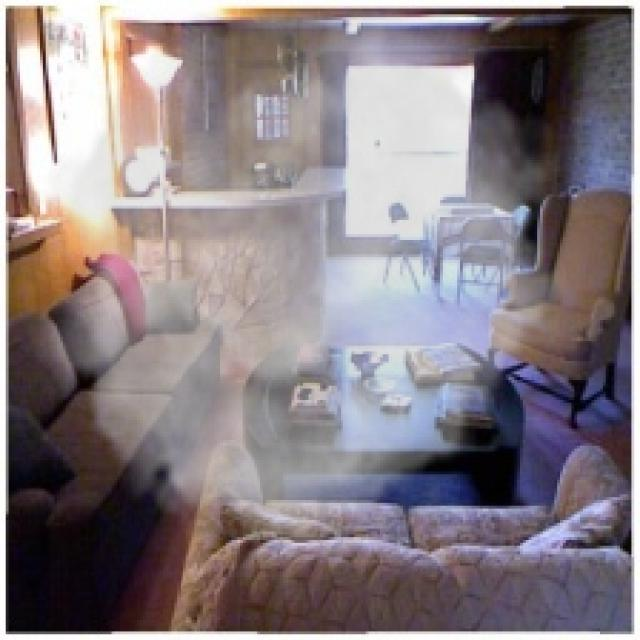smoke: (29, 11, 580, 540)
